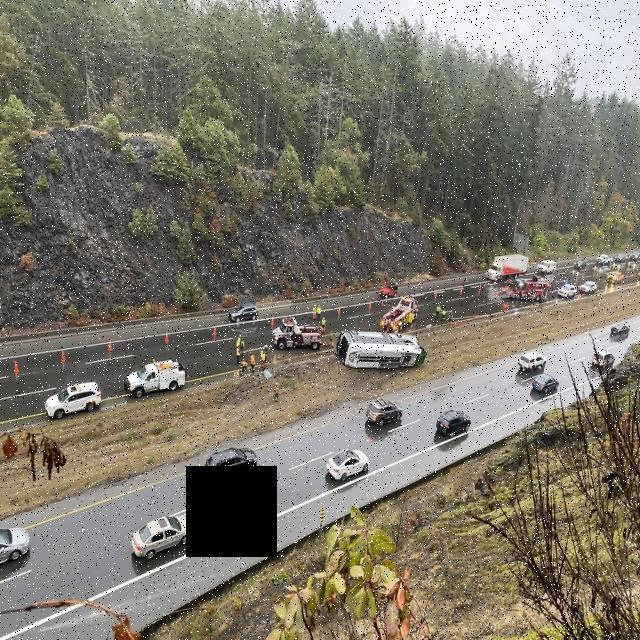severe: (331, 323, 427, 373)
